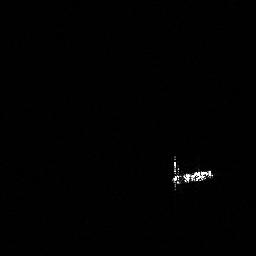ship: (167, 153, 217, 192)
